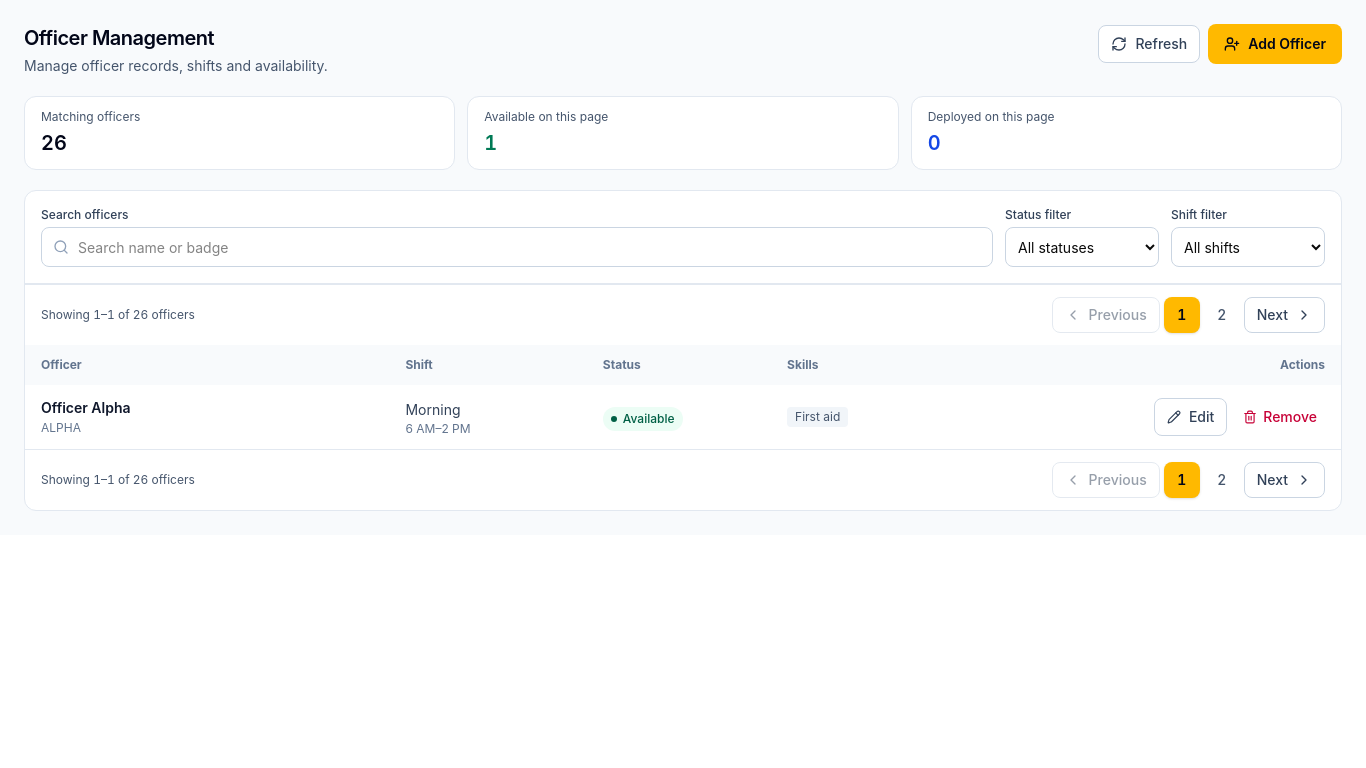
Test: returns to the previous page when deleting the last officer on the last page
Expected: the button with aria-label "Edit Officer Alpha" is shown, x1=1154 y1=398 x2=1227 y2=436
Click the button with aria-label "Next page" at (1284, 315), box x1=1244 y1=297 x2=1325 y2=333
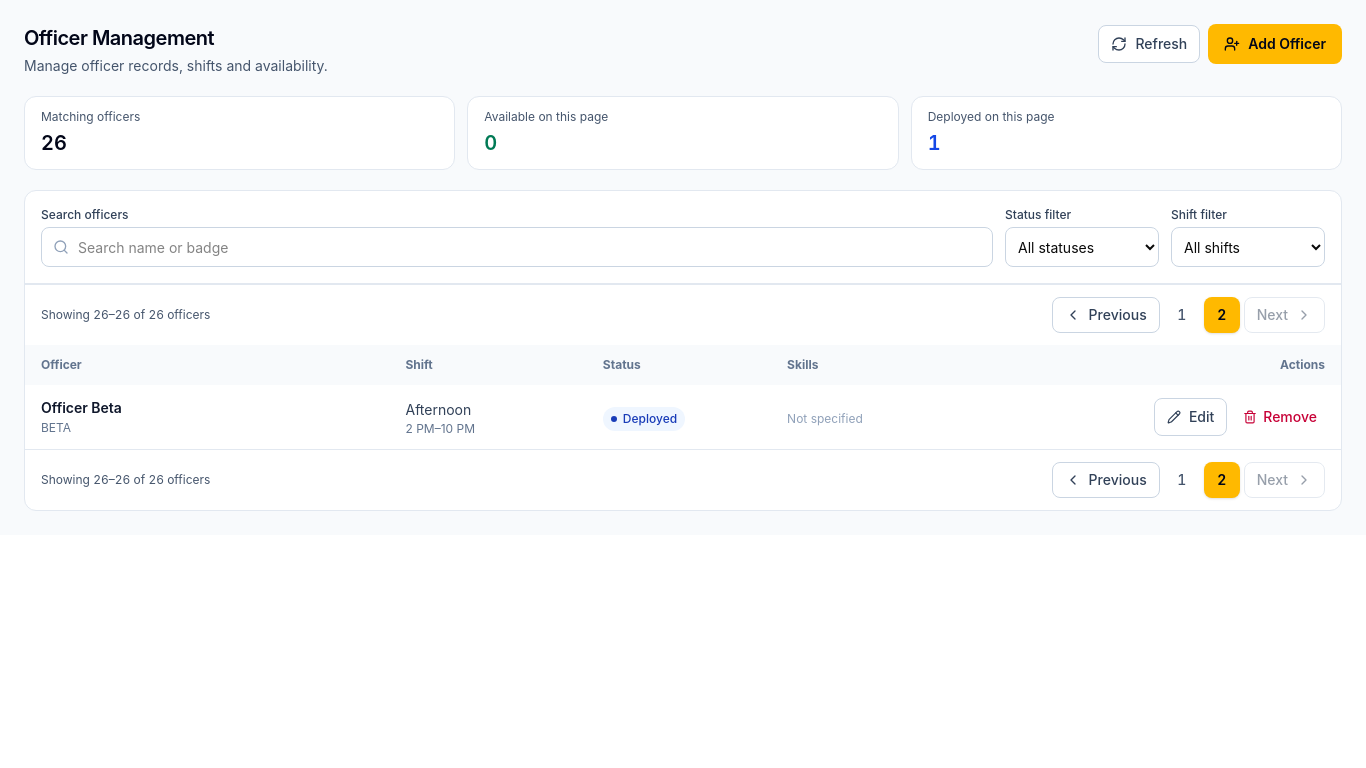
Click the button with aria-label "Remove Officer Beta" at (1280, 417), box x1=1235 y1=399 x2=1325 y2=435
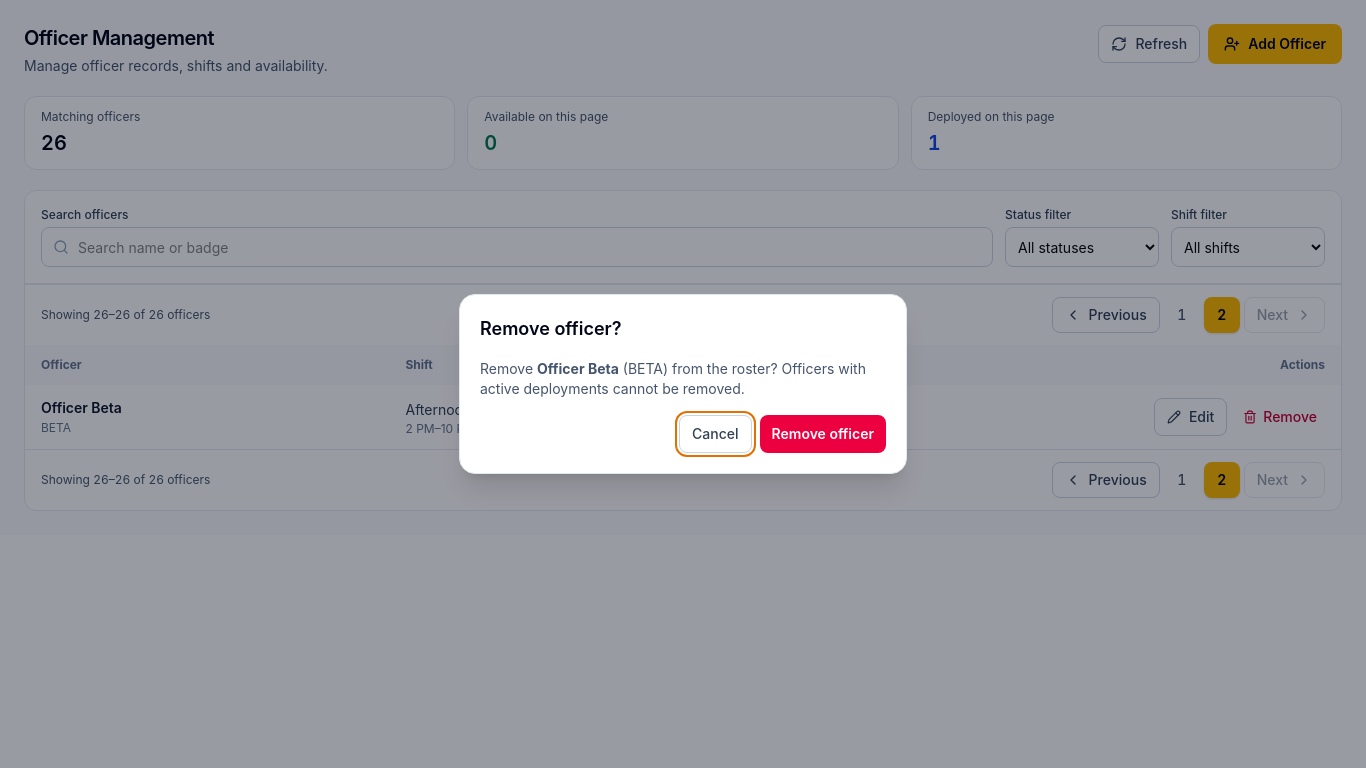
Click the button "Remove officer" at (823, 434), box x1=760 y1=415 x2=886 y2=453
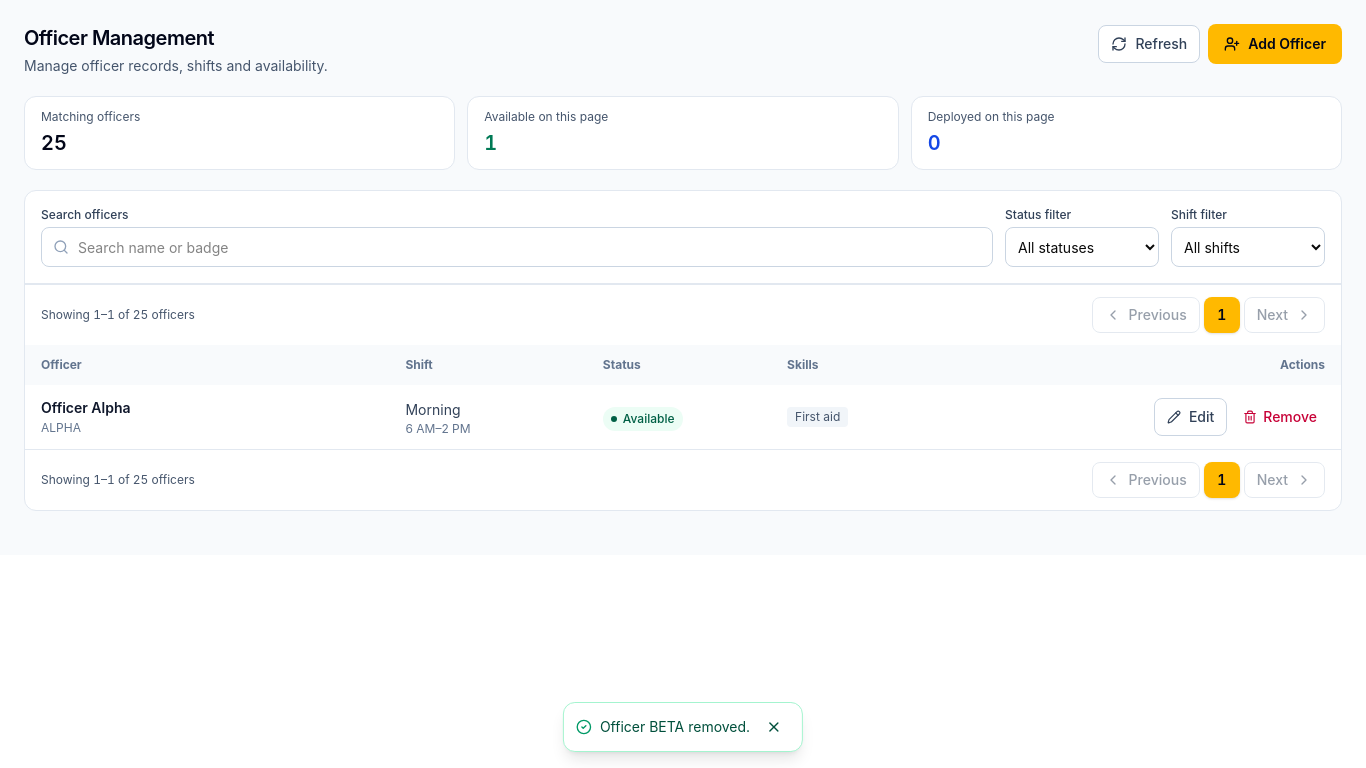
Now the button with aria-label "Next page" is disabled, box x1=1244 y1=297 x2=1325 y2=333
Now the button with aria-label "Edit Officer Alpha" is shown, box x1=1154 y1=398 x2=1227 y2=436
Now the button with aria-label "Previous page" is disabled, box x1=1092 y1=297 x2=1200 y2=333
